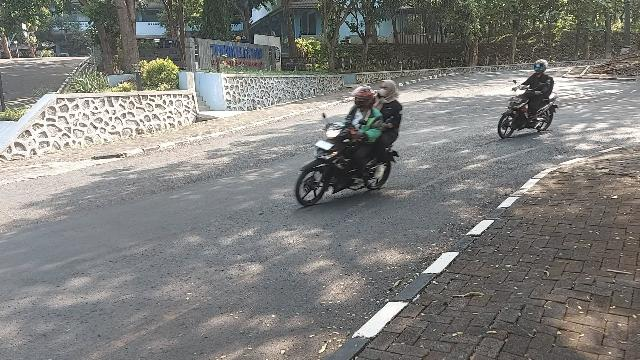helm: (352, 87, 375, 108), (536, 60, 549, 72)
motor: (296, 114, 400, 208), (499, 81, 560, 140)
non-helm: (381, 81, 398, 97)
